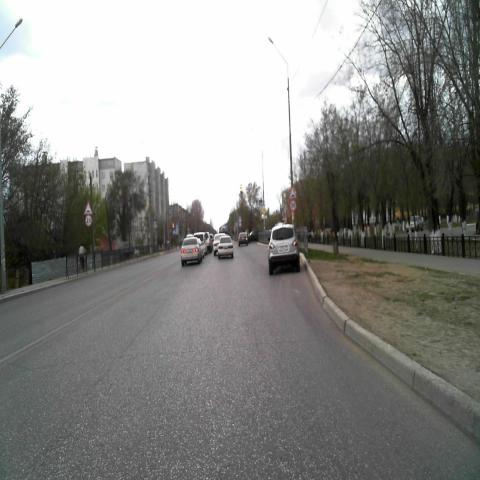1_17: (84, 201, 92, 215)
